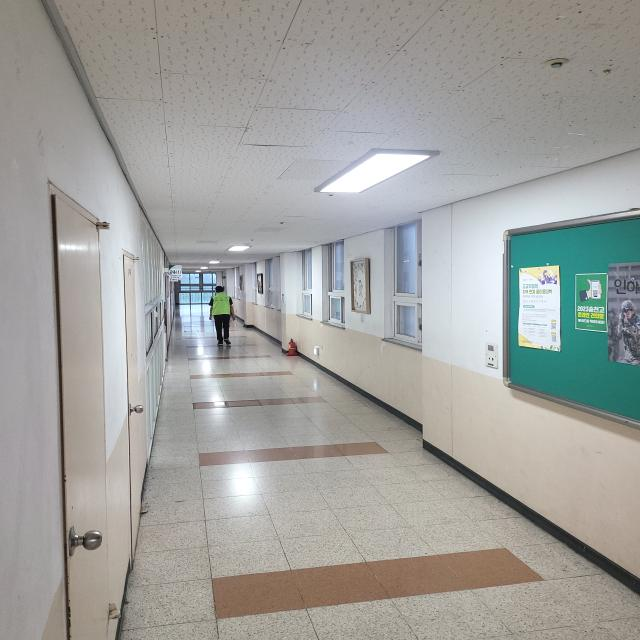weston_spy: (206, 292, 234, 318)
